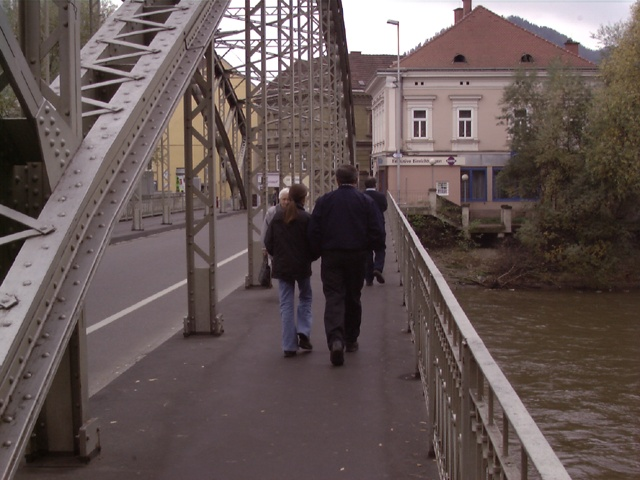person: (304, 159, 383, 364), (259, 178, 321, 359)
